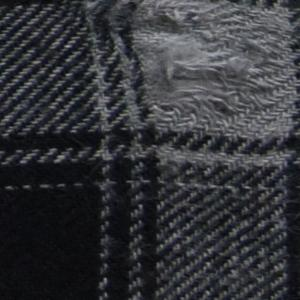Damage: (71, 1, 286, 147)
